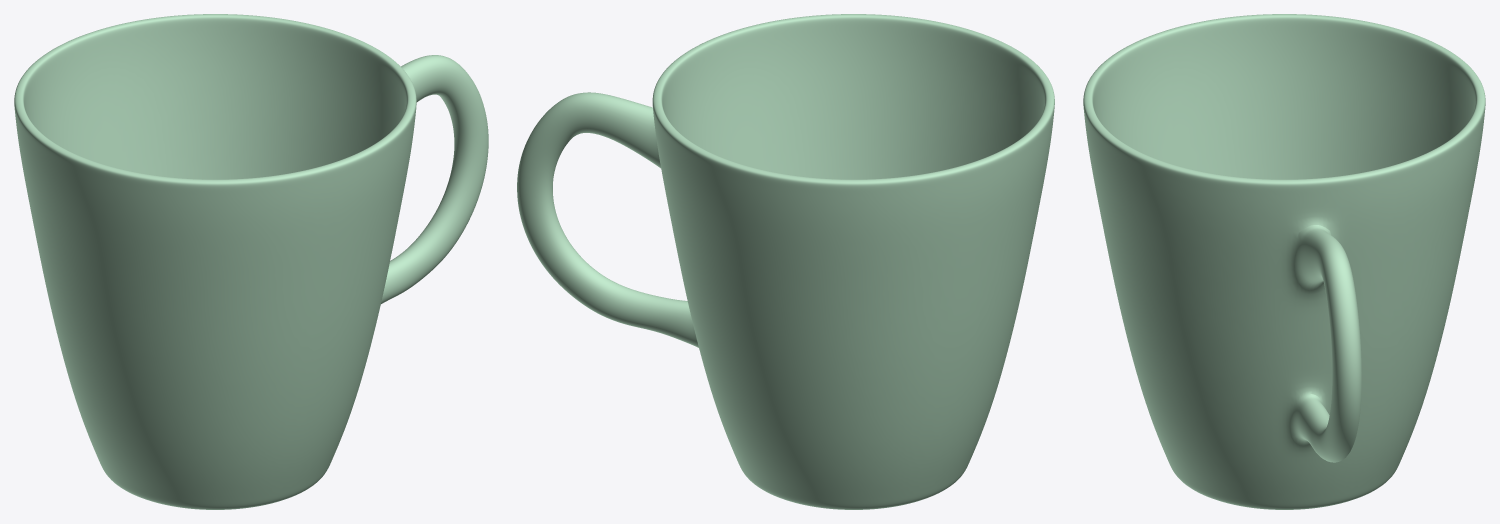
Rendered from cup.gltf.
3 views of the same model, side by side, from view 1: azimuth 30°, elevation 25°; view 2: azimuth 150°, elevation 25°; view 3: azimuth 270°, elevation 25° (orthographic).
Parts seen in each view (by area): view 1: Cylinder.001; view 2: Cylinder.001; view 3: Cylinder.001.
Part boxes in pixels (x1,y1,x2,y2): Cylinder.001: (14, 14, 488, 509); Cylinder.001: (517, 14, 1054, 509); Cylinder.001: (1083, 14, 1485, 509).
Size of the model in its own units: 2.74 by 2.02 by 2.
